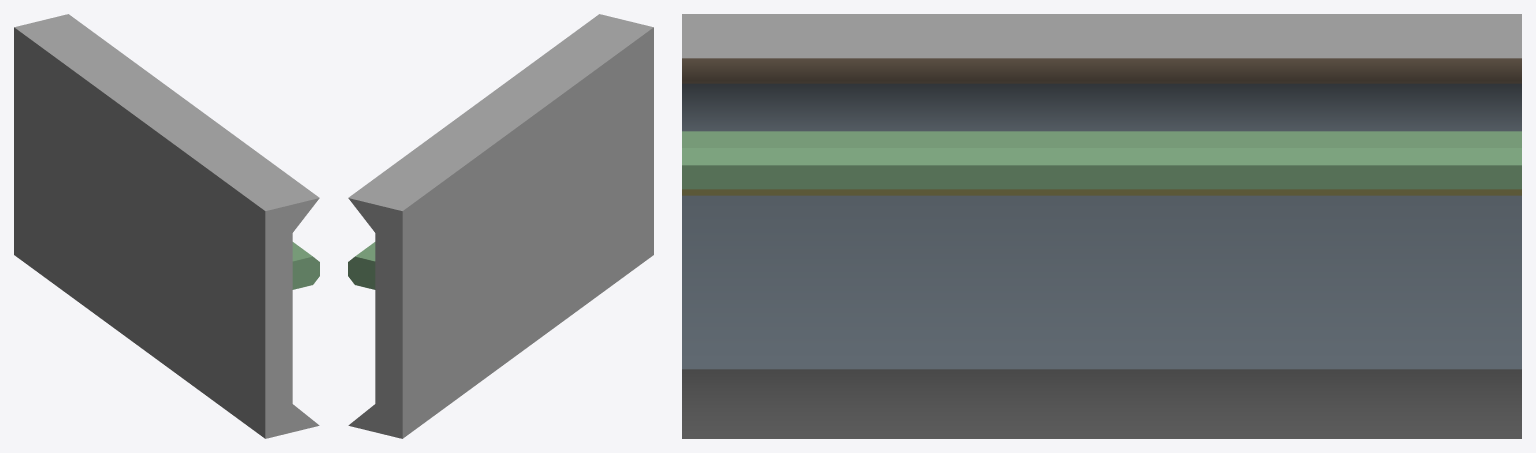
The model's file is Wall_End.fbx.
The picture shows the model from 3 angles, left to right: view 1: azimuth 30°, elevation 25°; view 2: azimuth 150°, elevation 25°; view 3: azimuth 270°, elevation 25°; orthographic projection. The views are drawn at different scales.
Parts seen in each view (by area): view 1: Wall_End; view 2: Wall_End; view 3: Wall_End.
Boxes of the visible parts, bbox=[...] form: Wall_End: bbox=[14, 14, 319, 438]; Wall_End: bbox=[348, 14, 653, 438]; Wall_End: bbox=[682, 14, 1521, 438].
Bounding box in the file's own units: 100 × 400 × 800.
